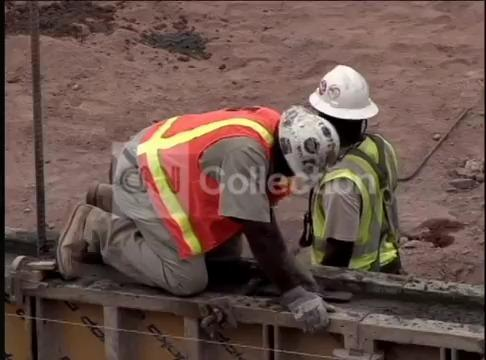Helmet: (308, 64, 379, 120), (281, 110, 332, 185)
Person: (62, 97, 323, 292), (296, 62, 408, 319)
Safety Boot: (49, 207, 88, 280), (87, 181, 105, 206)
Safety Vest: (127, 119, 286, 227), (320, 161, 395, 268)
